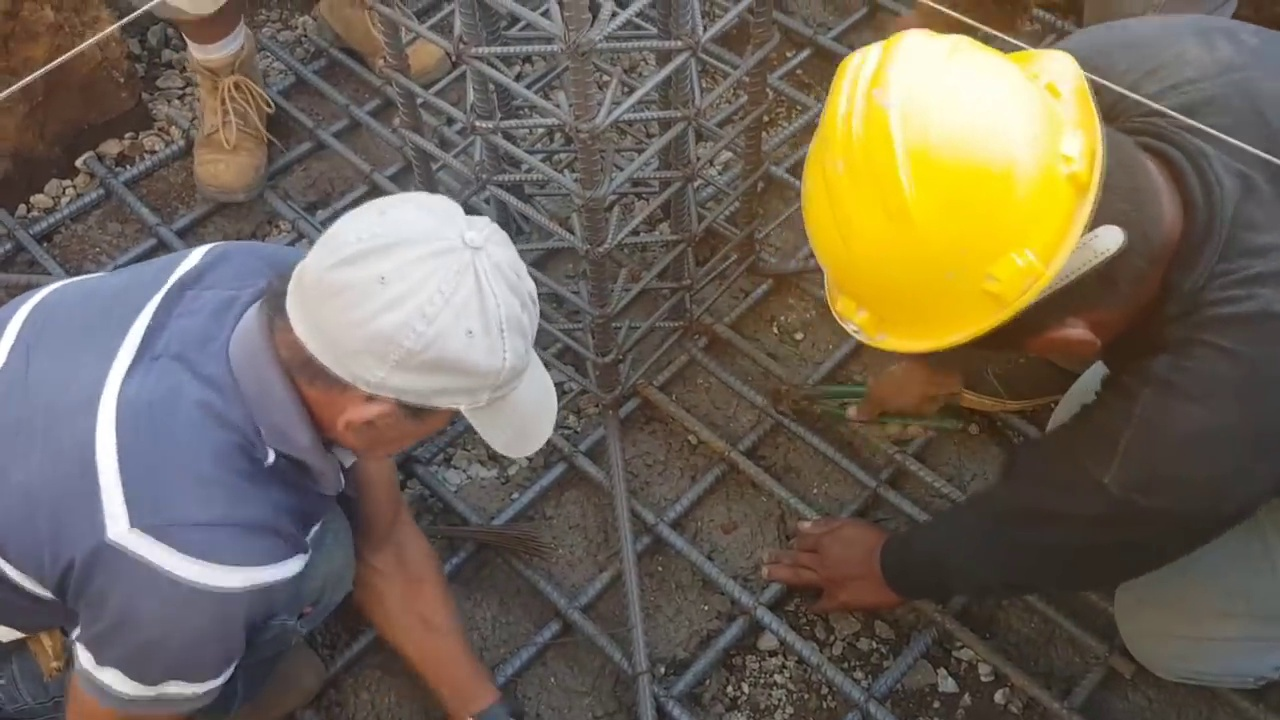helmet: (801, 42, 1122, 368)
helmet-off: (269, 192, 550, 482)
helmet-on: (798, 16, 1226, 388)
person: (754, 8, 1280, 689), (0, 168, 576, 720)
